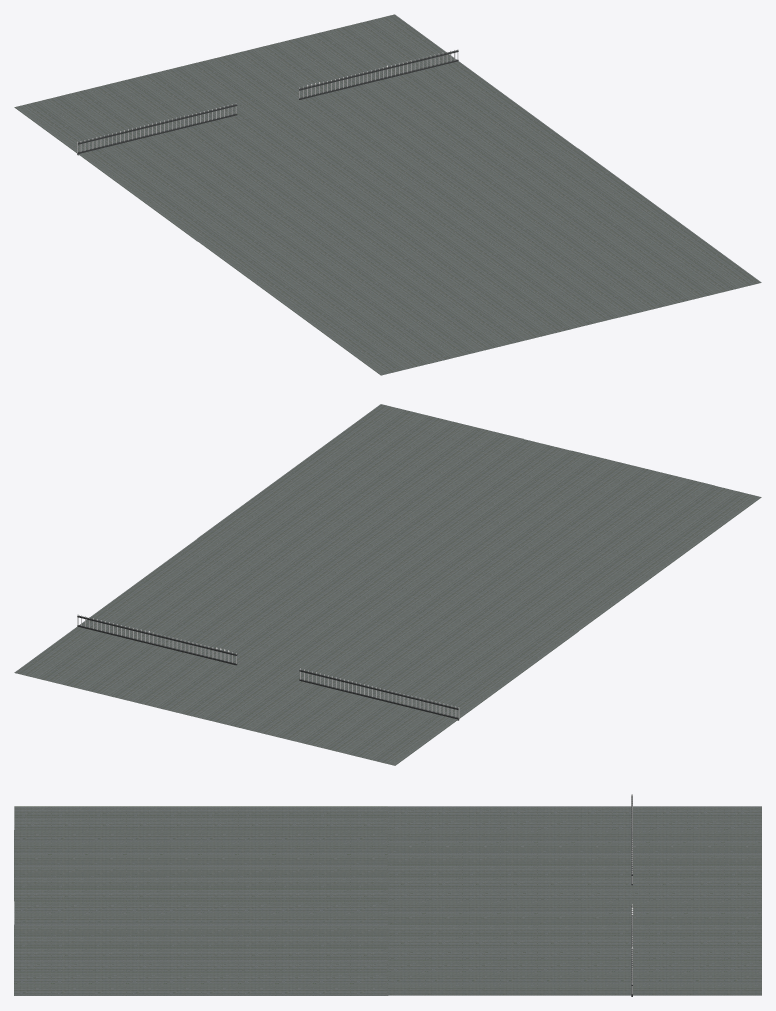
The model's file is env-1.fbx.
The picture shows the model from 3 angles, top to bottom: view 1: azimuth 30°, elevation 25°; view 2: azimuth 150°, elevation 25°; view 3: azimuth 270°, elevation 25°; orthographic projection.
Visible parts, largest first — view 1: floor, Cube.001, Cylinder.009, Cylinder.001; view 2: floor, Cube.001, Cylinder.001, Cylinder.009; view 3: floor.
Boxes of the visible parts, x1,y1,x2,y2 form: floor: [14, 14, 761, 375]; Cube.001: [77, 50, 458, 155]; Cylinder.009: [299, 49, 458, 98]; Cylinder.001: [77, 103, 236, 153]; floor: [14, 404, 761, 765]; Cube.001: [77, 615, 459, 720]; Cylinder.001: [300, 668, 459, 718]; Cylinder.009: [77, 614, 236, 663]; floor: [14, 806, 761, 995].
Bounding box in the file's own units: 4795 × 175 × 7985.
Materials: 25 (24 with a texture image).
